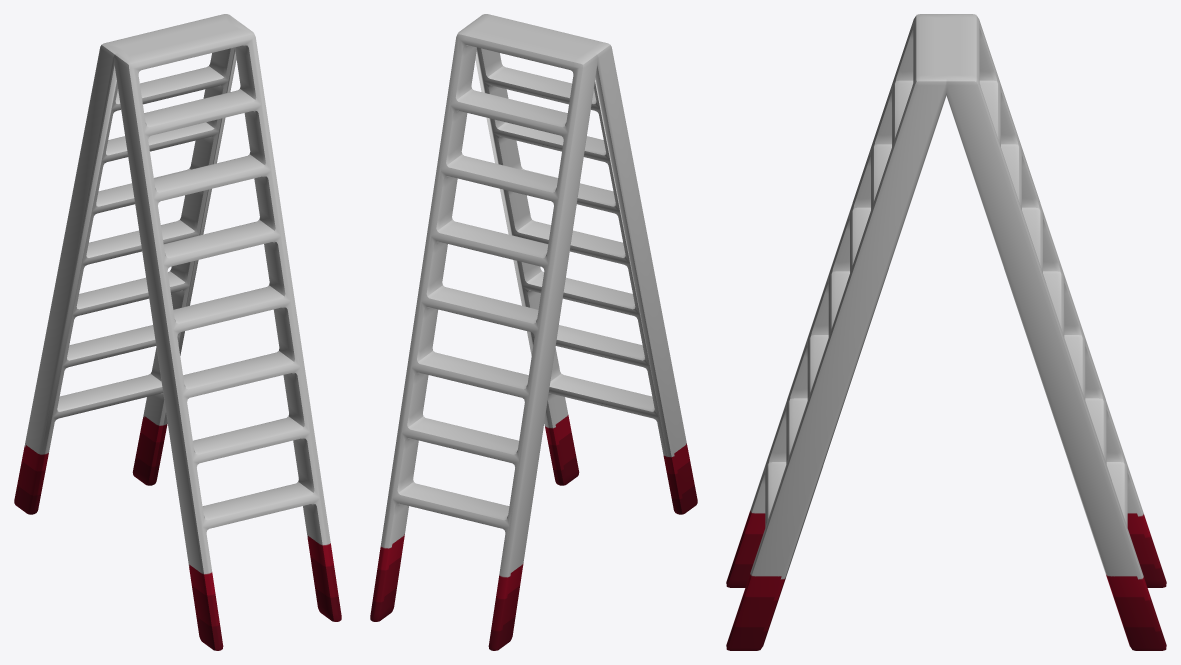
The model's file is 사다리 0.fbx.
3 views of the same model, side by side, from view 1: azimuth 30°, elevation 25°; view 2: azimuth 150°, elevation 25°; view 3: azimuth 270°, elevation 25° (orthographic). The views are drawn at different scales.
Parts seen in each view (by area): view 1: Box001; view 2: Box001; view 3: Box001.
Boxes of the visible parts, x1,y1,x2,y2 form: Box001: [14, 14, 341, 650]; Box001: [370, 14, 697, 650]; Box001: [726, 14, 1166, 650].
Bounding box in the file's own units: 30.41 × 119 × 82.62.
Materials: 1 (1 with a texture image).
